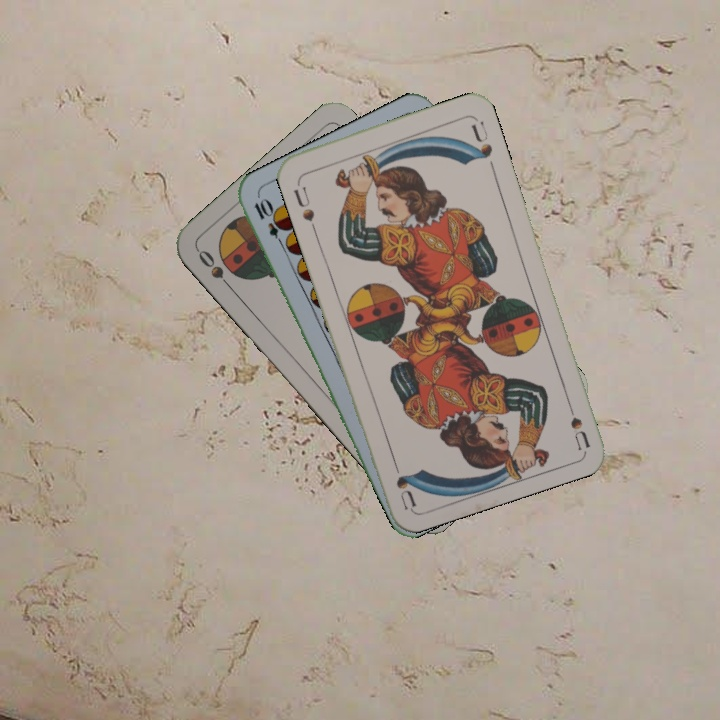E10: (249, 195, 289, 251)
SO: (194, 246, 237, 295)
SU: (561, 392, 593, 451), (289, 176, 317, 224)
